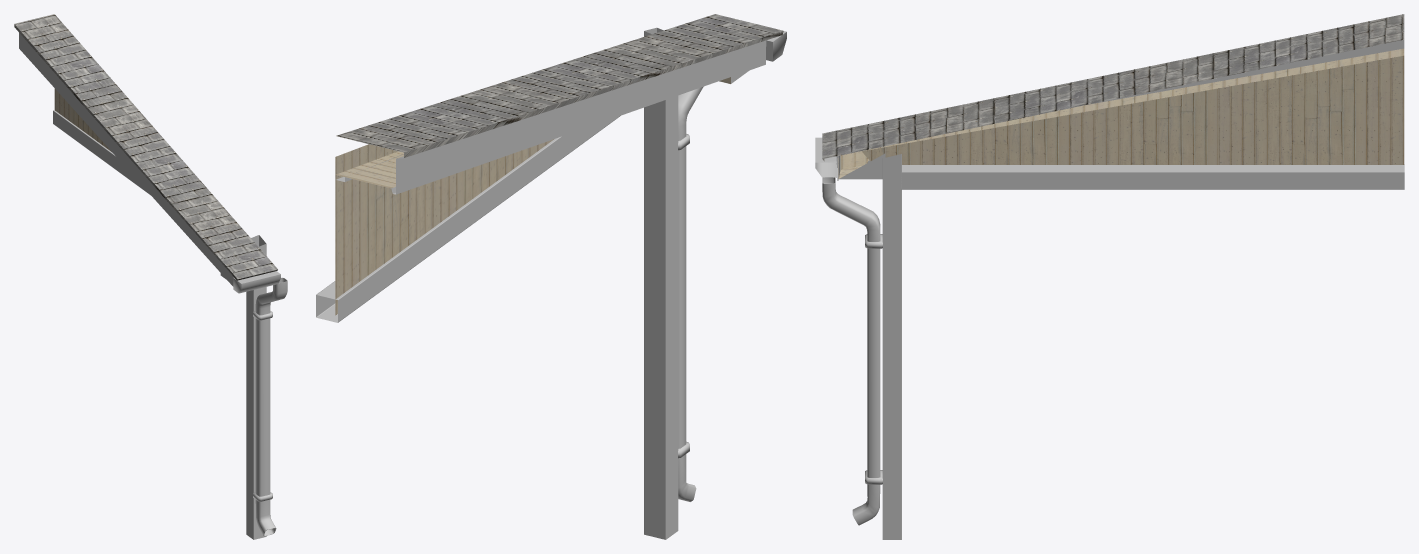
File: Porch_End_Left_4x.FBX
The picture shows the model from 3 angles, left to right: view 1: azimuth 30°, elevation 25°; view 2: azimuth 150°, elevation 25°; view 3: azimuth 270°, elevation 25°; orthographic projection. The views are drawn at different scales.
Visible parts, largest first — view 1: Porch_End_Left_4x; view 2: Porch_End_Left_4x; view 3: Porch_End_Left_4x.
Part boxes in pixels (x1=…): Porch_End_Left_4x: x1=14, y1=14, x2=287, y2=539; Porch_End_Left_4x: x1=316, y1=14, x2=786, y2=539; Porch_End_Left_4x: x1=815, y1=14, x2=1404, y2=539.
Bounding box in the file's own units: 53.23 × 366 × 397.
